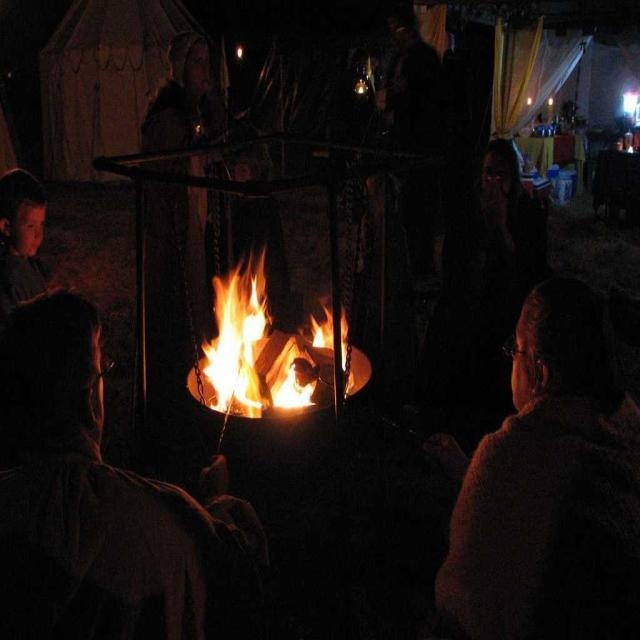Fire: (218, 298, 248, 400), (278, 375, 304, 408)
